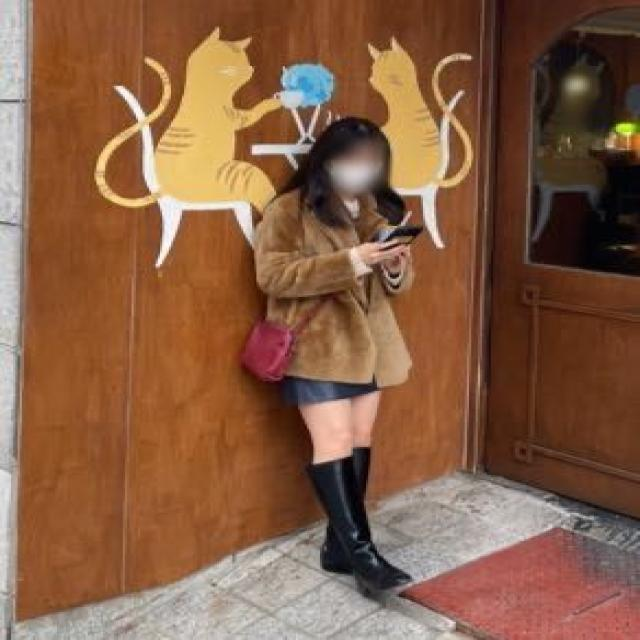jacket: (257, 189, 415, 386)
skirt: (286, 366, 398, 411)
